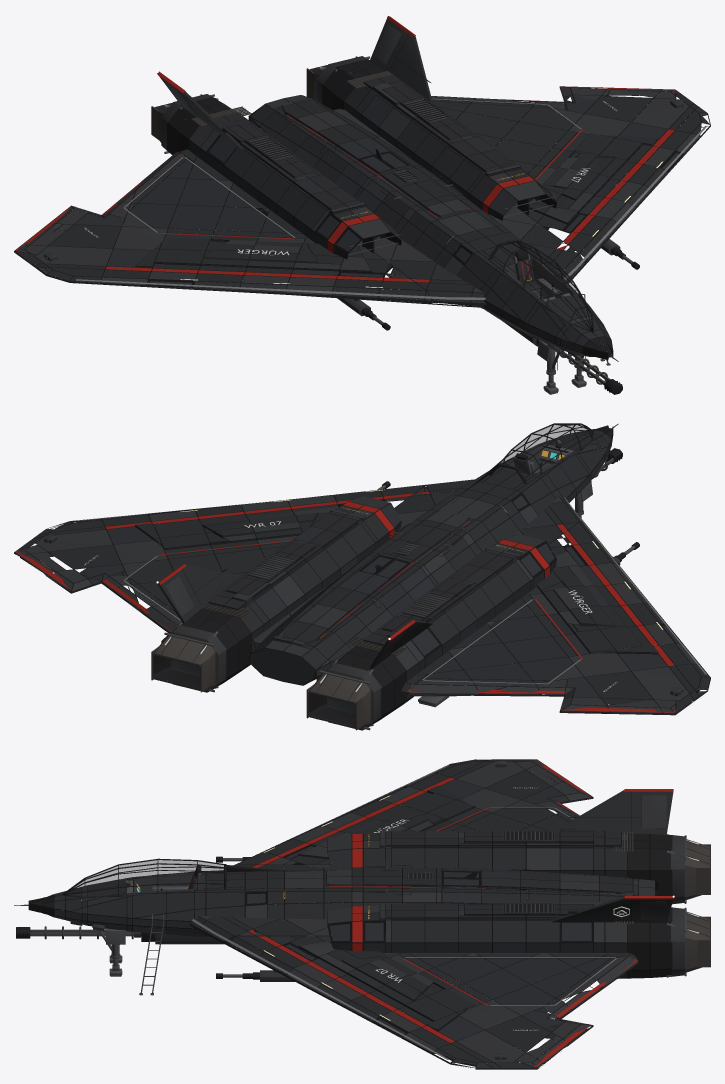
Rendered from Wuerger.fe7f425e60.glb.
The picture shows the model from 3 angles, top to bottom: view 1: azimuth 30°, elevation 25°; view 2: azimuth 150°, elevation 25°; view 3: azimuth 270°, elevation 25°; orthographic projection. The views are drawn at different scales.
Parts seen in each view (by area): view 1: Fluegel links.001, Duese.002, Bremsschlitz.004, Antenne.001, Akzentstreifen.098, Akzentstreifen.110, Abwurfschiene.004, Federbein.004; view 2: Fluegel links.001, Duese.002, Bremsschlitz.004, Antenne.001, Akzentstreifen.098, Abwurfschiene.004, Akzentstreifen.110, HUD-Scheibe.001, Federbein.004; view 3: Fluegel links.001, Duese.002, Bremsschlitz.004, Antenne.001, Akzentstreifen.098, Abwurfschiene.004, Akzentstreifen.110, HUD-Scheibe.001, Federbein.004, Cockpitwanne.001.
Part boxes in pixels (x1,y1,x2,y2): Fluegel links.001: (14, 18, 710, 354); Duese.002: (15, 24, 706, 384); Bremsschlitz.004: (14, 34, 710, 392); Antenne.001: (167, 59, 639, 394); Akzentstreifen.098: (15, 16, 675, 282); Akzentstreifen.110: (76, 98, 706, 299); Abwurfschiene.004: (164, 56, 632, 384); Federbein.004: (263, 232, 610, 394); Fluegel links.001: (14, 429, 710, 715); Duese.002: (15, 434, 704, 730); Bremsschlitz.004: (14, 426, 710, 719); Antenne.001: (153, 423, 639, 725); Akzentstreifen.098: (15, 491, 675, 712); Abwurfschiene.004: (164, 423, 635, 730); Akzentstreifen.110: (76, 497, 706, 684); HUD-Scheibe.001: (497, 425, 587, 468); Federbein.004: (418, 480, 592, 707); Fluegel links.001: (54, 759, 673, 1069); Duese.002: (44, 759, 710, 1069); Bremsschlitz.004: (18, 759, 709, 1068); Antenne.001: (16, 831, 671, 979); Akzentstreifen.098: (249, 759, 673, 1067); Abwurfschiene.004: (14, 831, 686, 977); Akzentstreifen.110: (192, 765, 616, 1059); HUD-Scheibe.001: (70, 860, 223, 891); Federbein.004: (98, 913, 164, 995); Cockpitwanne.001: (127, 874, 205, 915).
Size of the model in its own units: 26 by 4.98 by 24.8.
